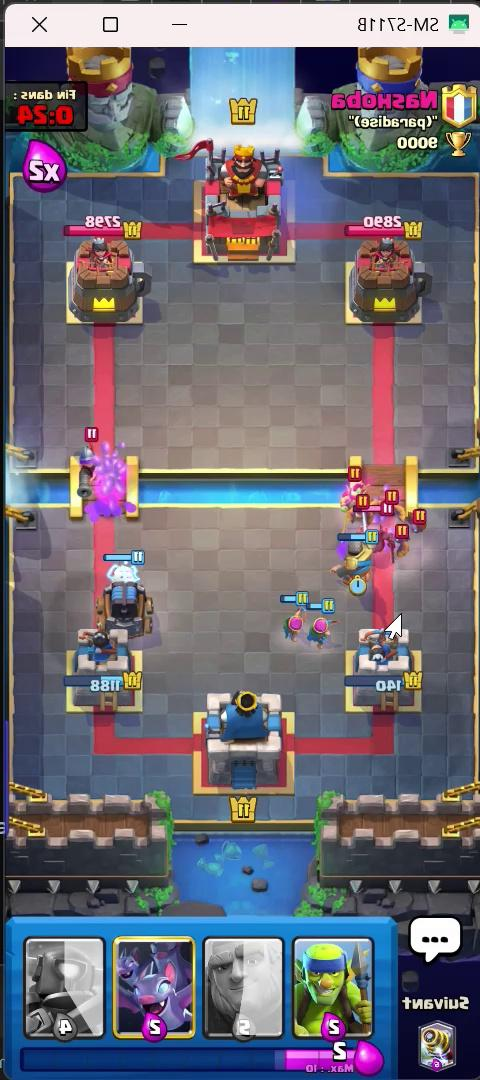archere: (276, 583, 317, 657), (305, 599, 352, 651)
bat: (405, 503, 434, 552), (383, 489, 410, 524), (339, 496, 371, 525), (392, 526, 413, 556)
gobelin_lances: (338, 464, 379, 520)
mini_PEKKA: (342, 0, 476, 556), (356, 525, 400, 563)
mousquetaire: (63, 433, 120, 510)
zappy: (68, 545, 158, 641)
